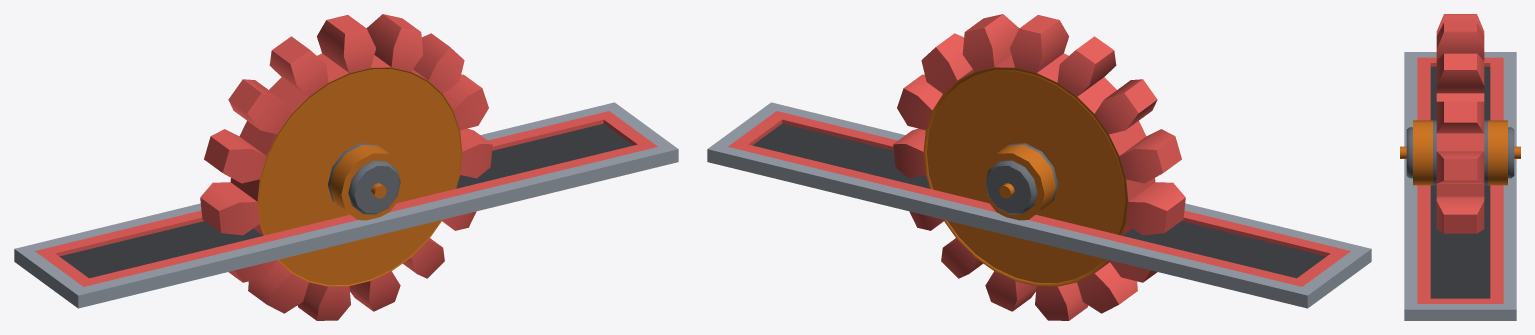
File: Engel03.fbx
3 views of the same model, side by side, from view 1: azimuth 30°, elevation 25°; view 2: azimuth 150°, elevation 25°; view 3: azimuth 270°, elevation 25° (orthographic). The views are drawn at different scales.
Visible parts, largest first — view 1: Gear_Ground, Gear01, Gear04, Gear02; view 2: Gear_Ground, Gear01, Gear04, Gear03; view 3: Gear_Ground, Gear01, Gear02, Gear03, Gear05.
Boxes of the visible parts, x1=… form: Gear_Ground: x1=14, y1=102, x2=678, y2=308; Gear01: x1=200, y1=14, x2=492, y2=320; Gear04: x1=259, y1=68, x2=460, y2=285; Gear02: x1=330, y1=145, x2=405, y2=220; Gear_Ground: x1=707, y1=102, x2=1371, y2=308; Gear01: x1=893, y1=14, x2=1185, y2=320; Gear04: x1=927, y1=71, x2=1124, y2=283; Gear03: x1=980, y1=145, x2=1055, y2=220; Gear_Ground: x1=1404, y1=52, x2=1516, y2=320; Gear01: x1=1436, y1=14, x2=1484, y2=233; Gear02: x1=1400, y1=120, x2=1432, y2=185; Gear03: x1=1488, y1=120, x2=1520, y2=185; Gear05: x1=1433, y1=120, x2=1487, y2=185.
Bounding box in the file's own units: 272 × 123 × 53.88.
